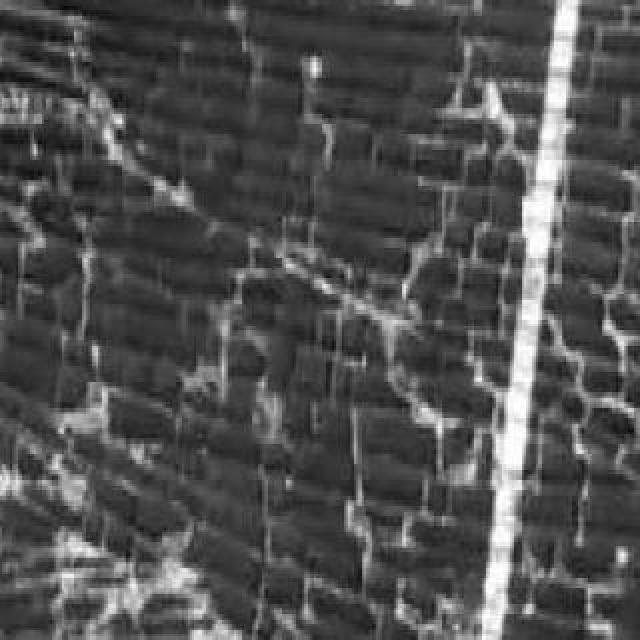Physical-damage: (26, 20, 640, 640)
